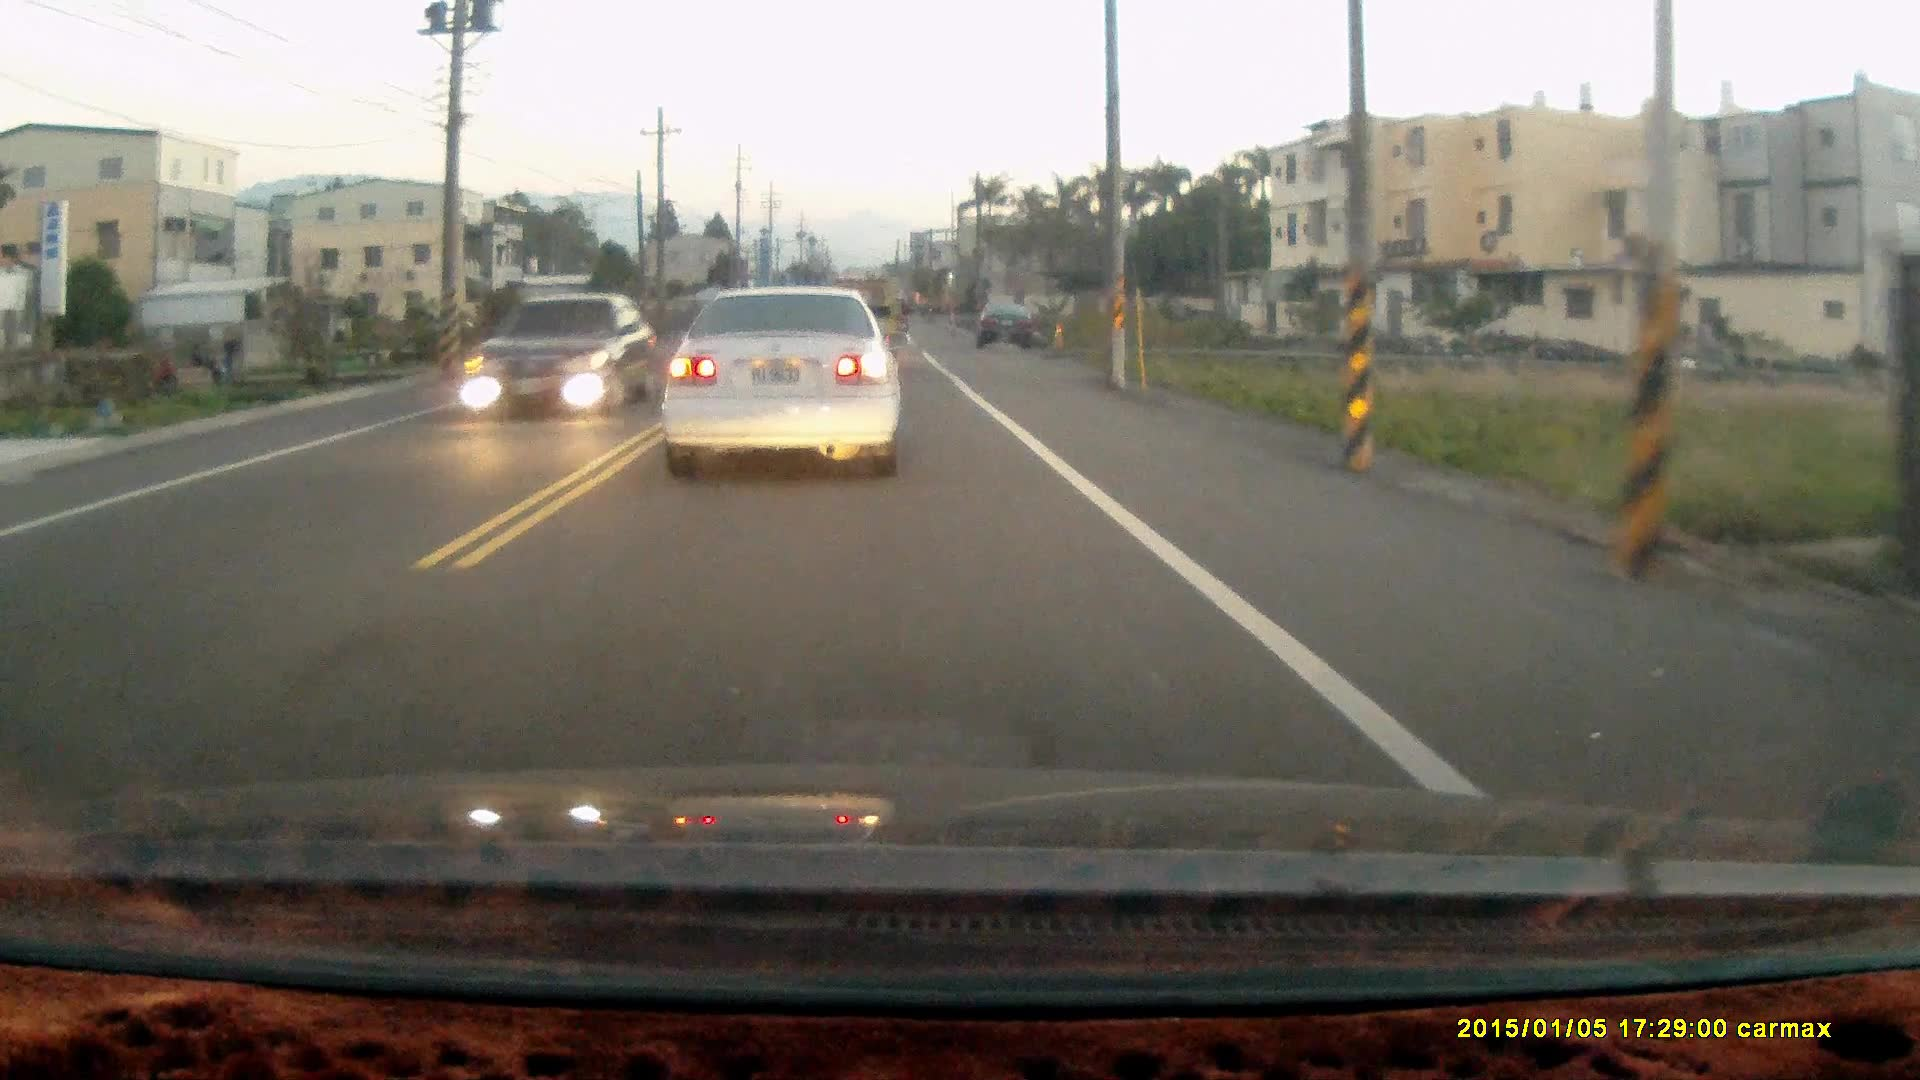pedestrian: (152, 354, 176, 401), (221, 327, 241, 376)
vehicle: (663, 280, 906, 481), (464, 294, 660, 419), (978, 304, 1041, 353)
